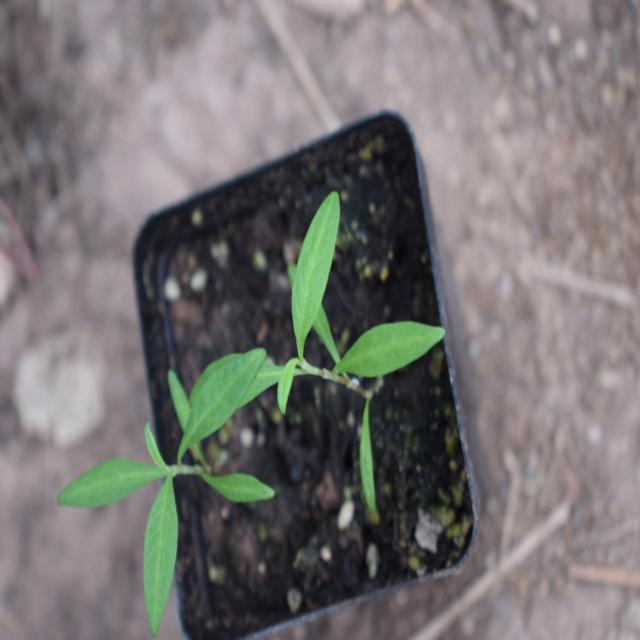white_smart_weed: (54, 322, 279, 620), (242, 163, 434, 475)
